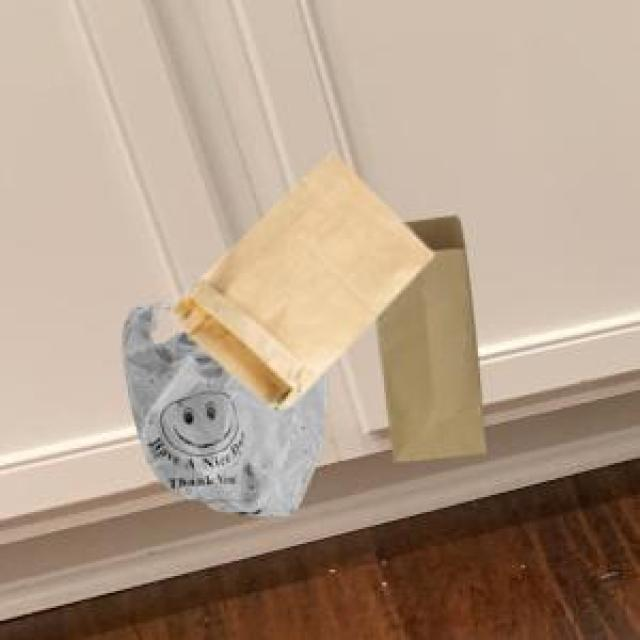paper: (169, 149, 429, 403), (371, 211, 482, 459)
